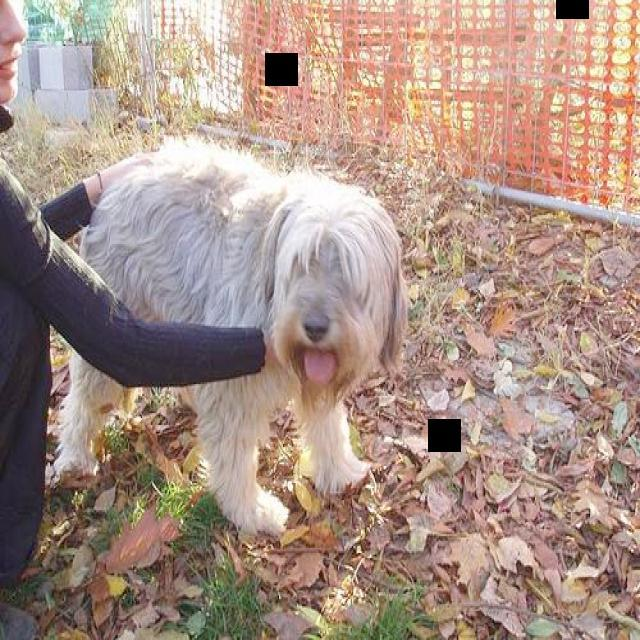adult_dog: (56, 128, 410, 551)
